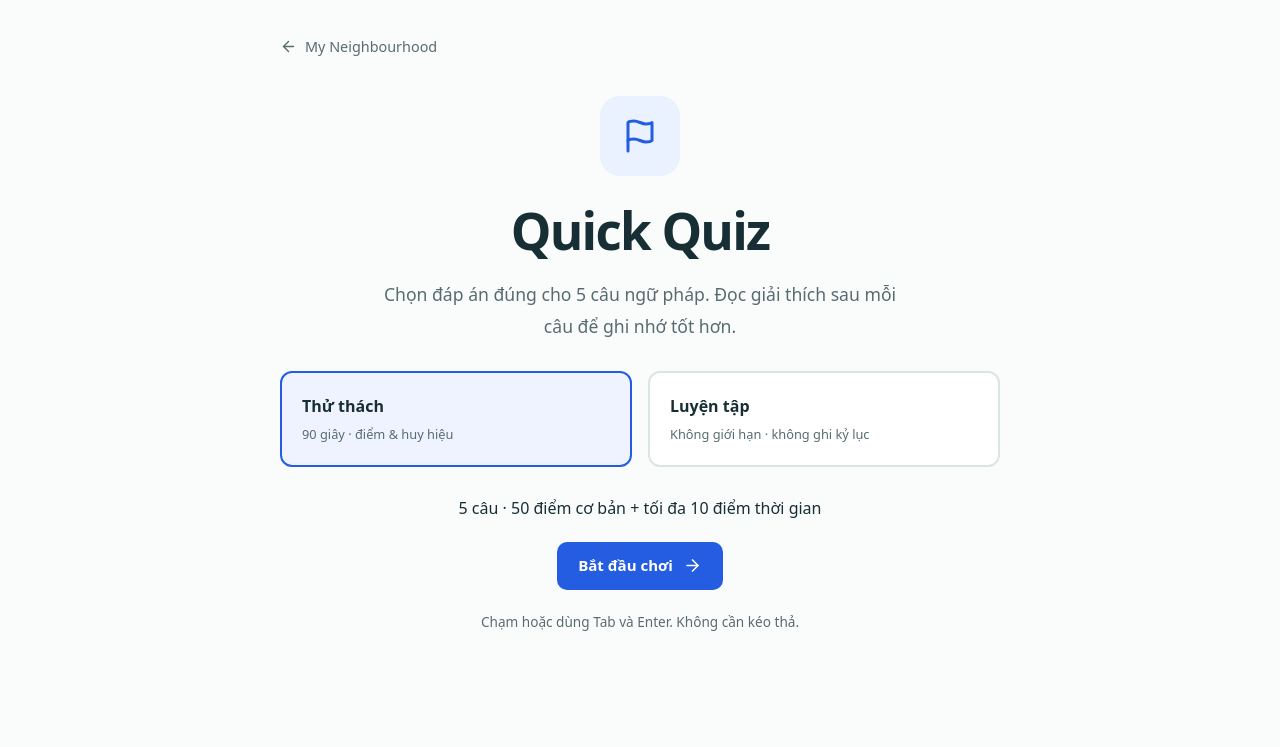
routes and user interactions › blocks leaving a running game and supports cancel then leave
Later steps or results of the test are not shown.
Click the button "Bắt đầu chơi".
click(640, 566)  # box x1=557 y1=542 x2=723 y2=590
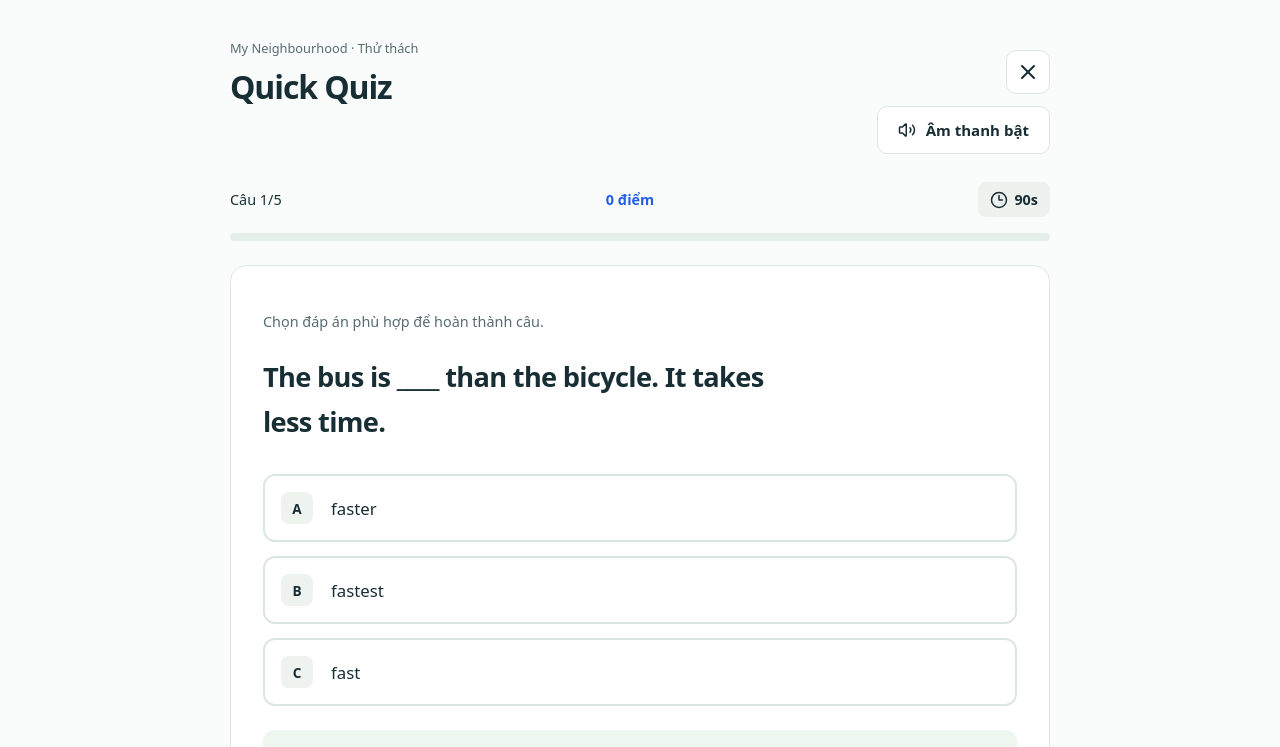
Click the button named "Rời thử thách".
click(1028, 72)  # box x1=1006 y1=50 x2=1050 y2=94
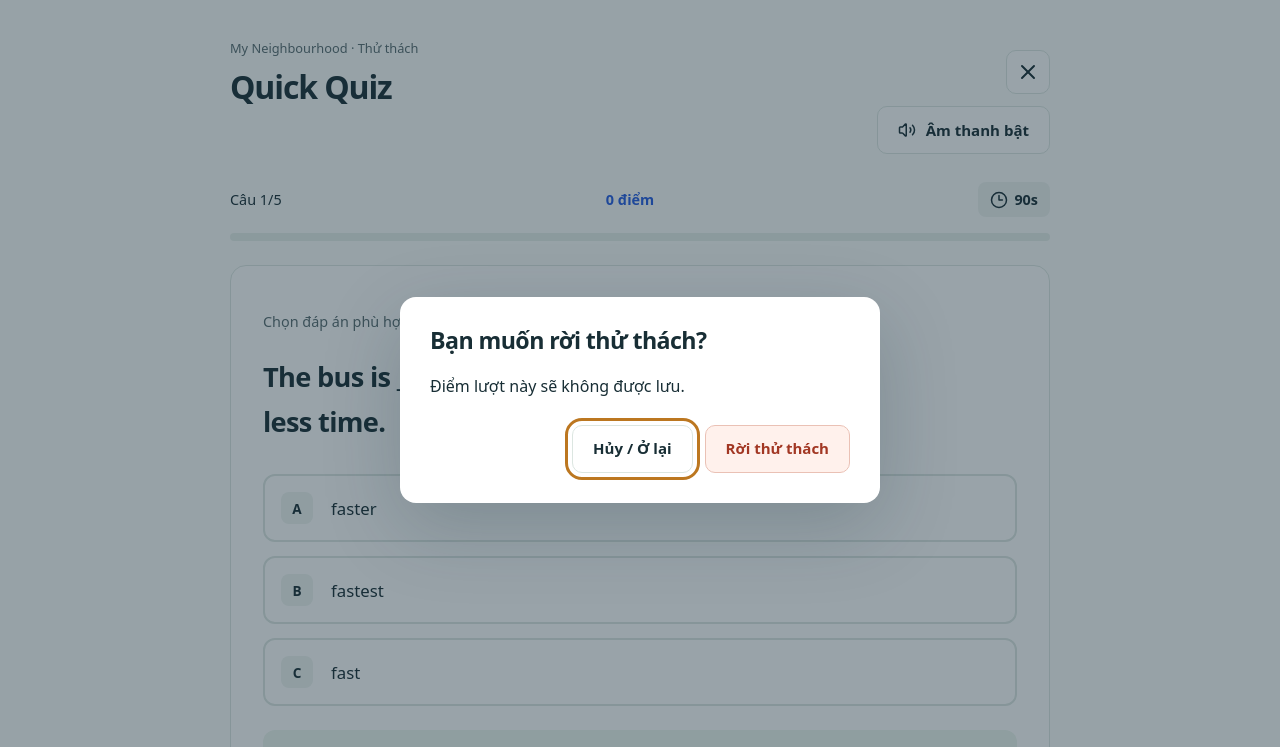
Check: the dialog is shown, box x1=400 y1=298 x2=880 y2=502
